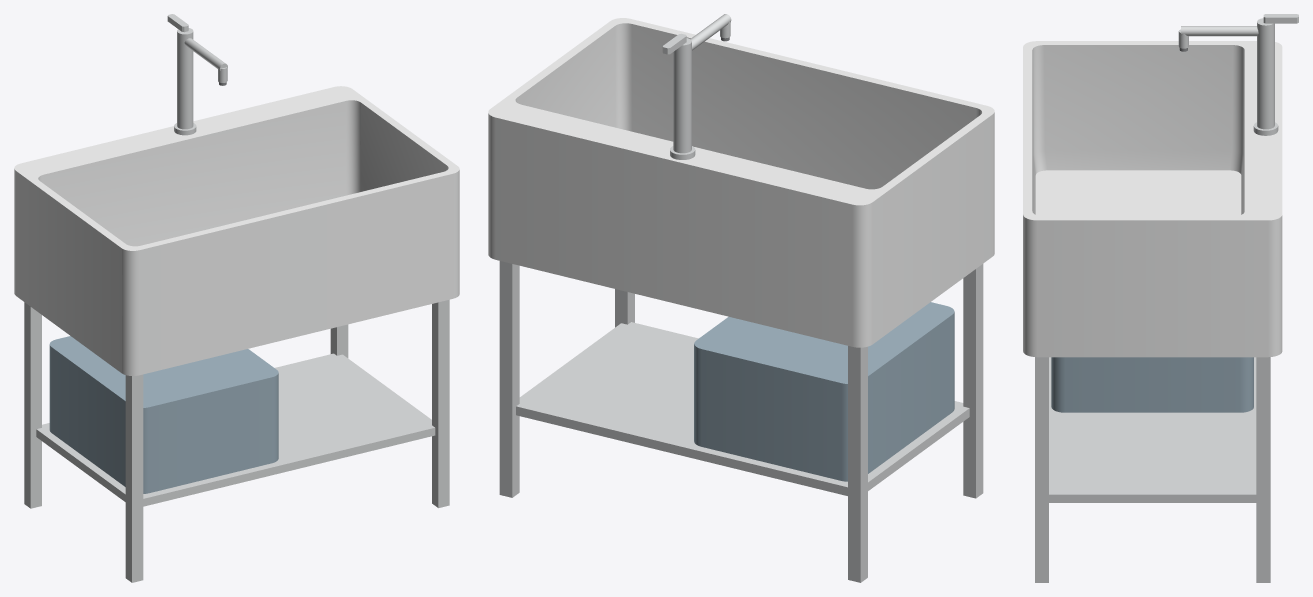
The picture shows the model from 3 angles, left to right: view 1: azimuth 30°, elevation 25°; view 2: azimuth 150°, elevation 25°; view 3: azimuth 270°, elevation 25°; orthographic projection. The views are drawn at different scales.
Visible parts, largest first — view 1: Chậu giặt Rộng=900; Sâu=550; view 2: Chậu giặt Rộng=900; Sâu=550; view 3: Chậu giặt Rộng=900; Sâu=550.
Part boxes in pixels (x1=…): Chậu giặt Rộng=900; Sâu=550: x1=14, y1=14, x2=459, y2=582; Chậu giặt Rộng=900; Sâu=550: x1=488, y1=14, x2=994, y2=582; Chậu giặt Rộng=900; Sâu=550: x1=1023, y1=14, x2=1298, y2=582.
Size of the model in its own units: 0.9 by 1.13 by 0.585.
